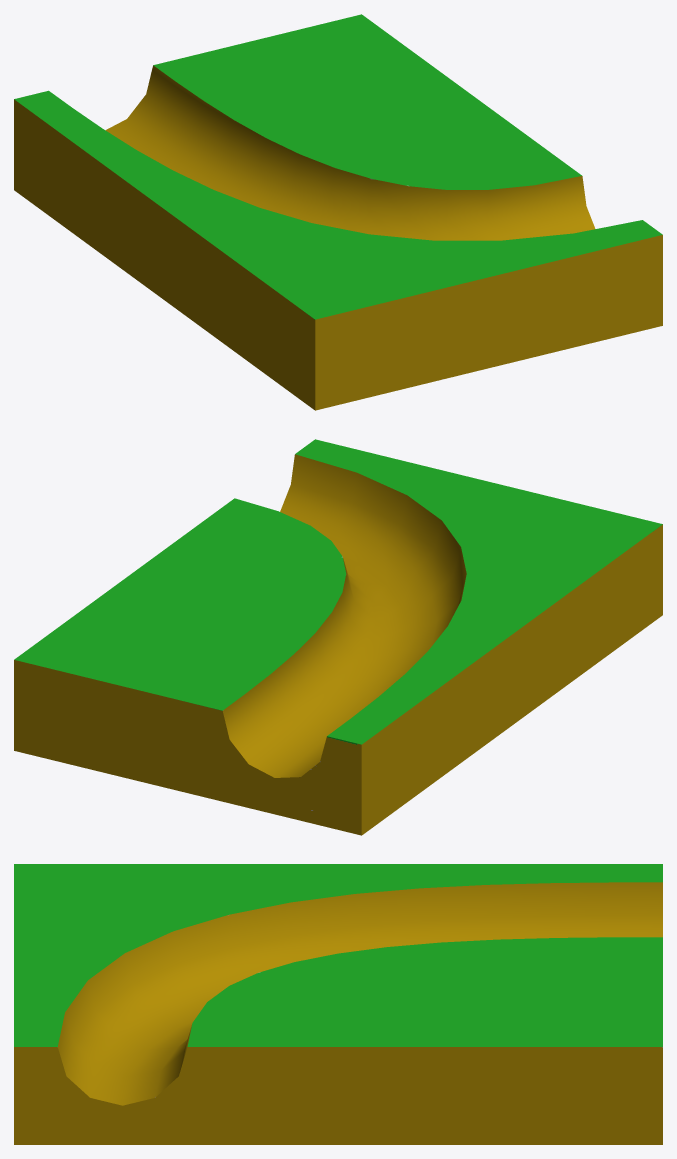
Rendered from bigCurve.fbx.
The picture shows the model from 3 angles, top to bottom: view 1: azimuth 30°, elevation 25°; view 2: azimuth 150°, elevation 25°; view 3: azimuth 270°, elevation 25°; orthographic projection. The views are drawn at different scales.
Visible parts, largest first — view 1: Cube_1_1.043; view 2: Cube_1_1.043; view 3: Cube_1_1.043.
Boxes of the visible parts, x1=… form: Cube_1_1.043: x1=14, y1=14, x2=662, y2=410; Cube_1_1.043: x1=14, y1=439, x2=662, y2=835; Cube_1_1.043: x1=14, y1=864, x2=662, y2=1144.
Size of the model in its own units: 400 by 100 by 600.
